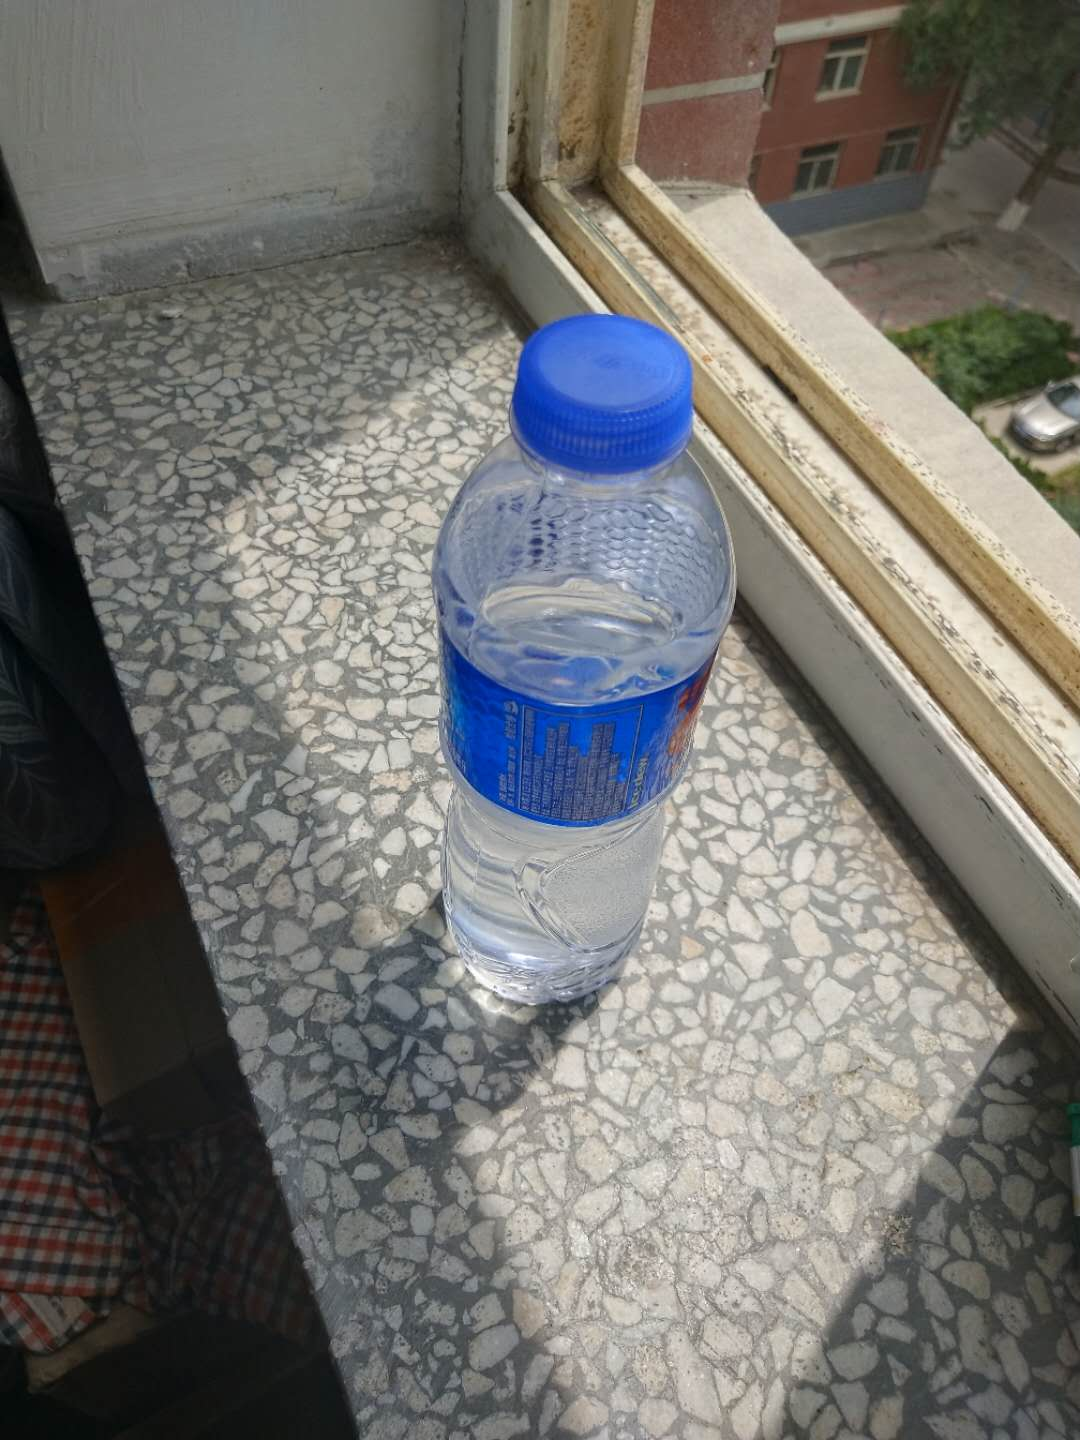冰露: (404, 293, 753, 1042)
